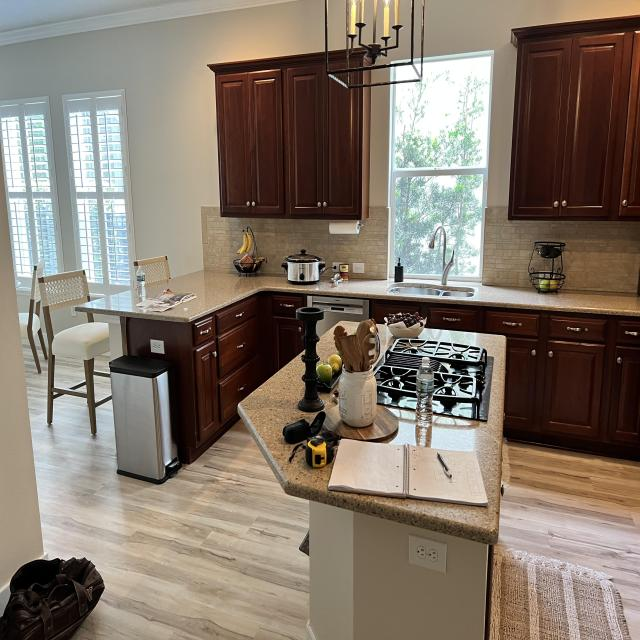Appliance_Dishwasher: (302, 295, 372, 341)
Appliance_Sink: (388, 223, 473, 298)
Appliance_Stove: (375, 338, 494, 422)
Cabinet_Raised_Panel: (367, 300, 640, 463), (210, 48, 369, 221), (508, 16, 640, 223), (193, 291, 312, 454)
Countertop_Granite: (240, 329, 509, 544), (82, 273, 640, 320)
